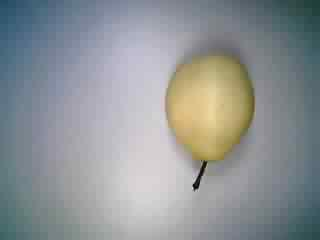pear: (150, 45, 260, 196)
